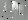person: (14, 3, 19, 14), (20, 5, 24, 16), (7, 3, 11, 13)
